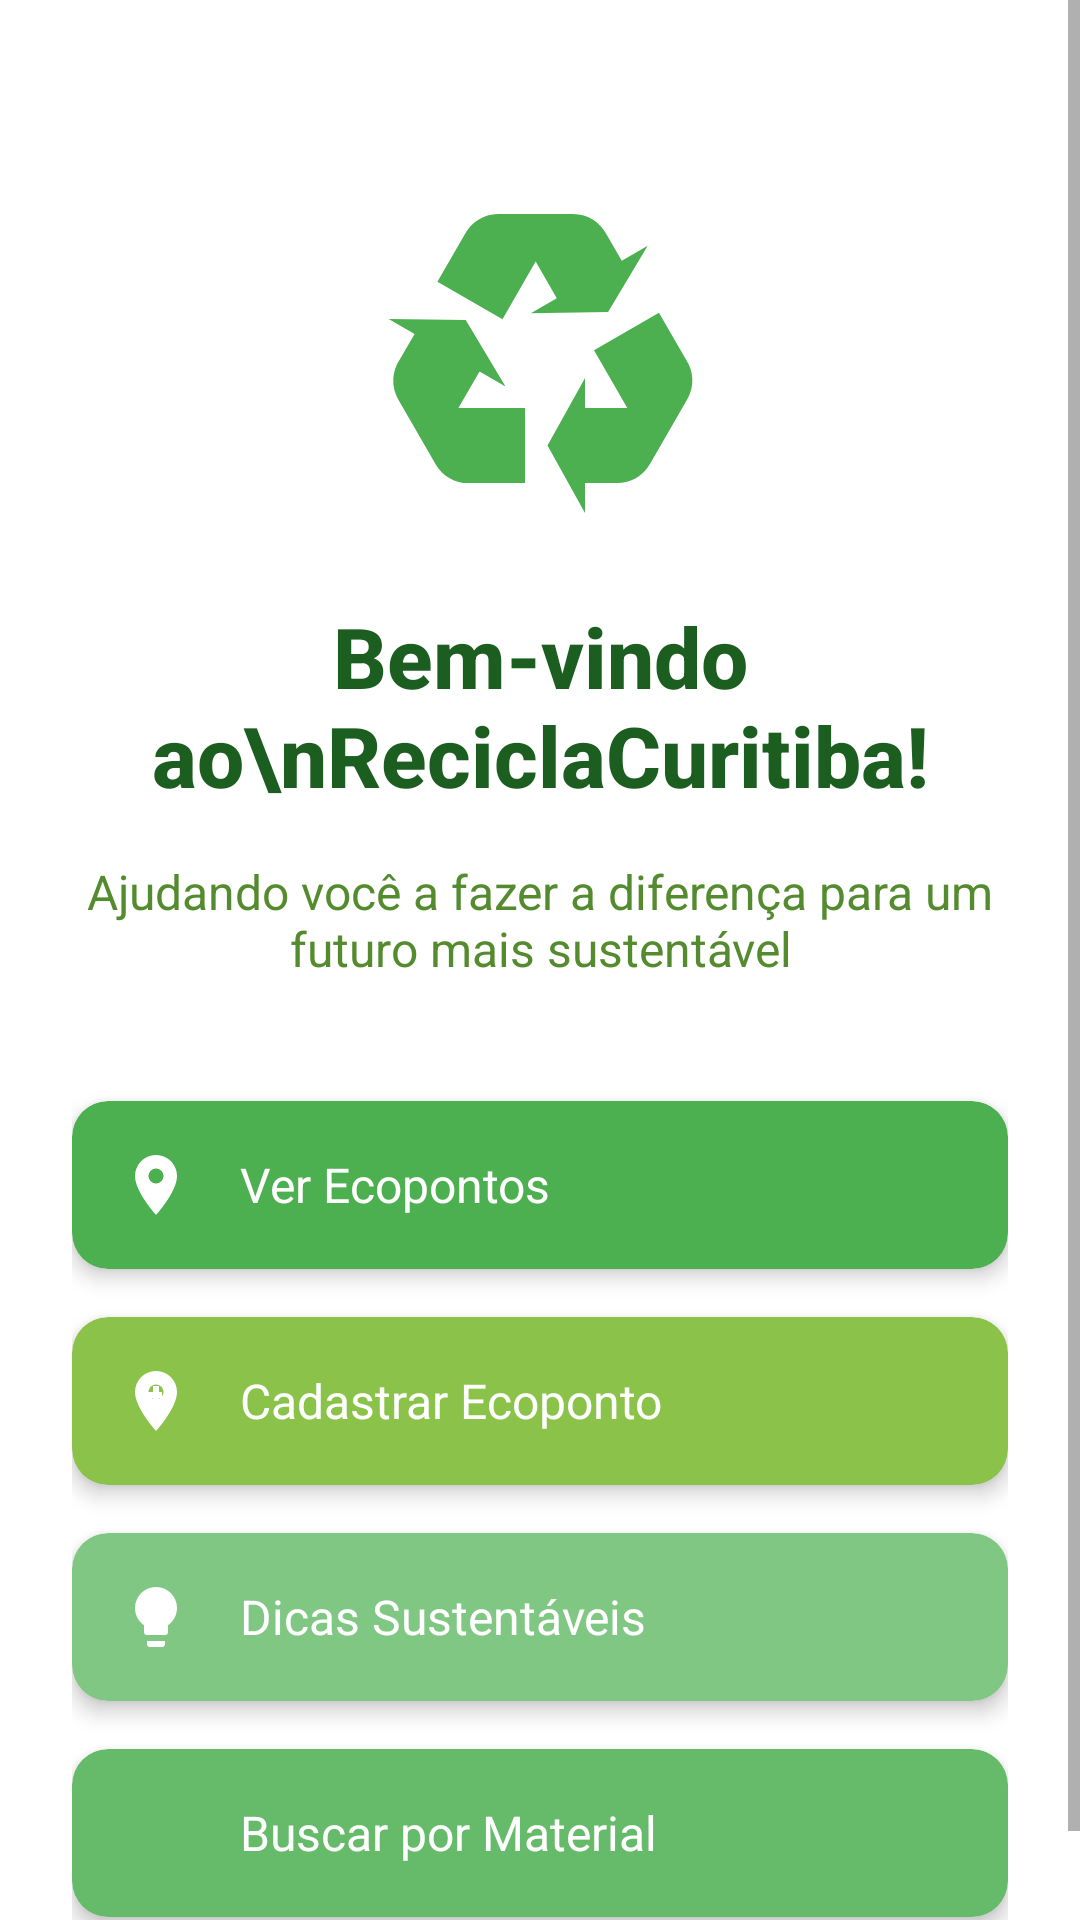

Icons on this 1080 x 1920 Android screen, each with the point to tap as (x=x, y=y):
add location: (x=156, y=1401)
location: (x=156, y=1185)
tips: (x=156, y=1617)
Ícone de reciclagem: (x=541, y=363)
